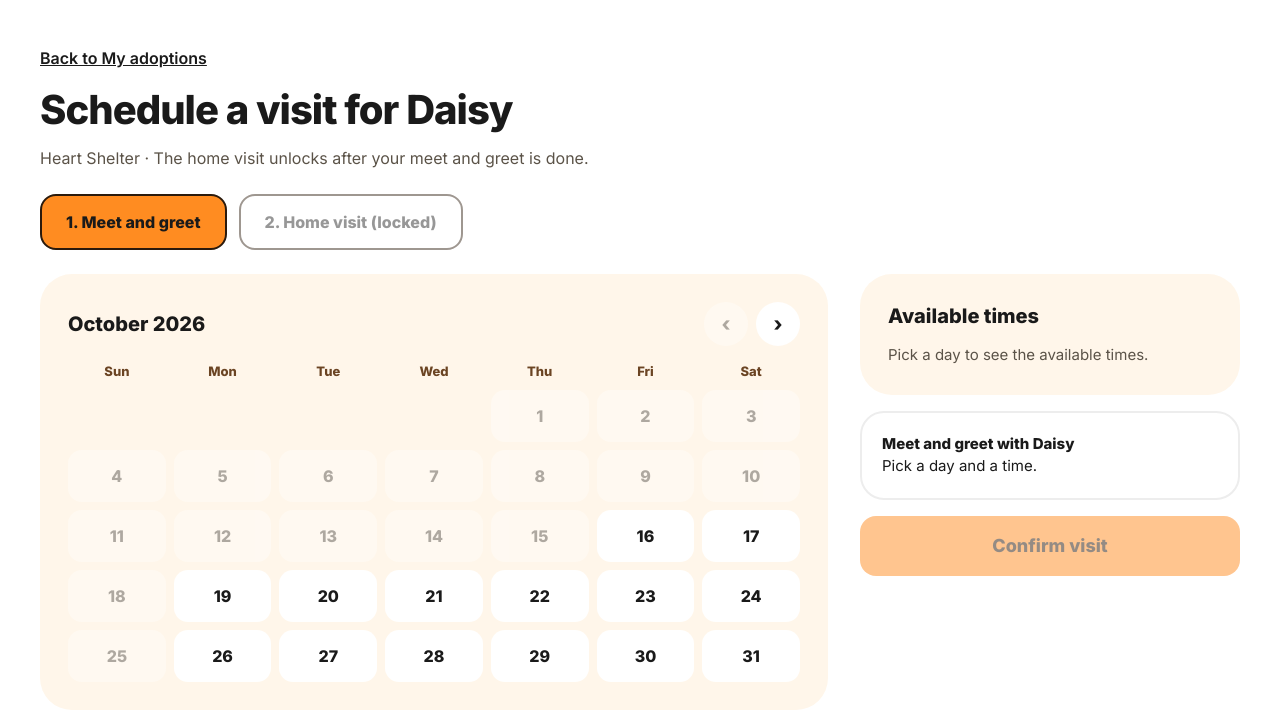
Test: ScheduleVisit › lists the times for a day and summarizes the choice
Expected: the text "Pick a day and a time." is shown, [882,456,1037,475]
Click the button named "Monday, October 19" at (223, 596), box [174,570,271,622]
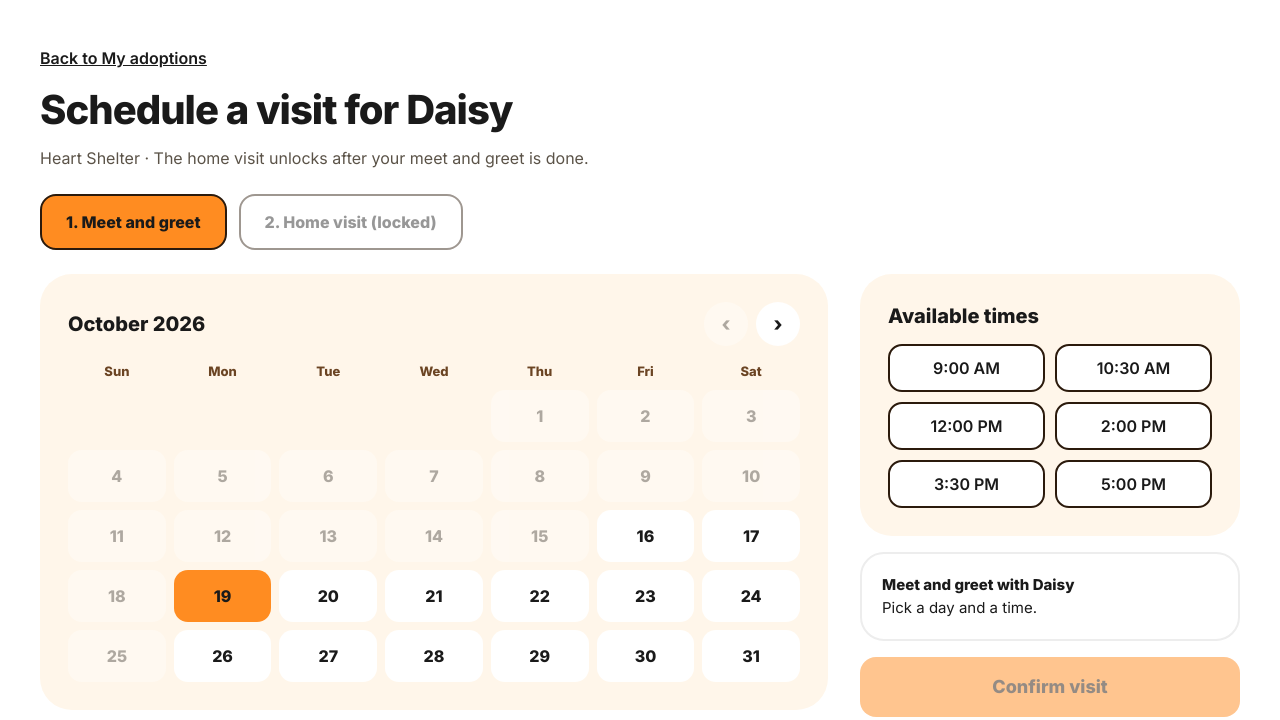
Click the button "10:30 AM" at (1134, 368), box [1055,344,1212,392]
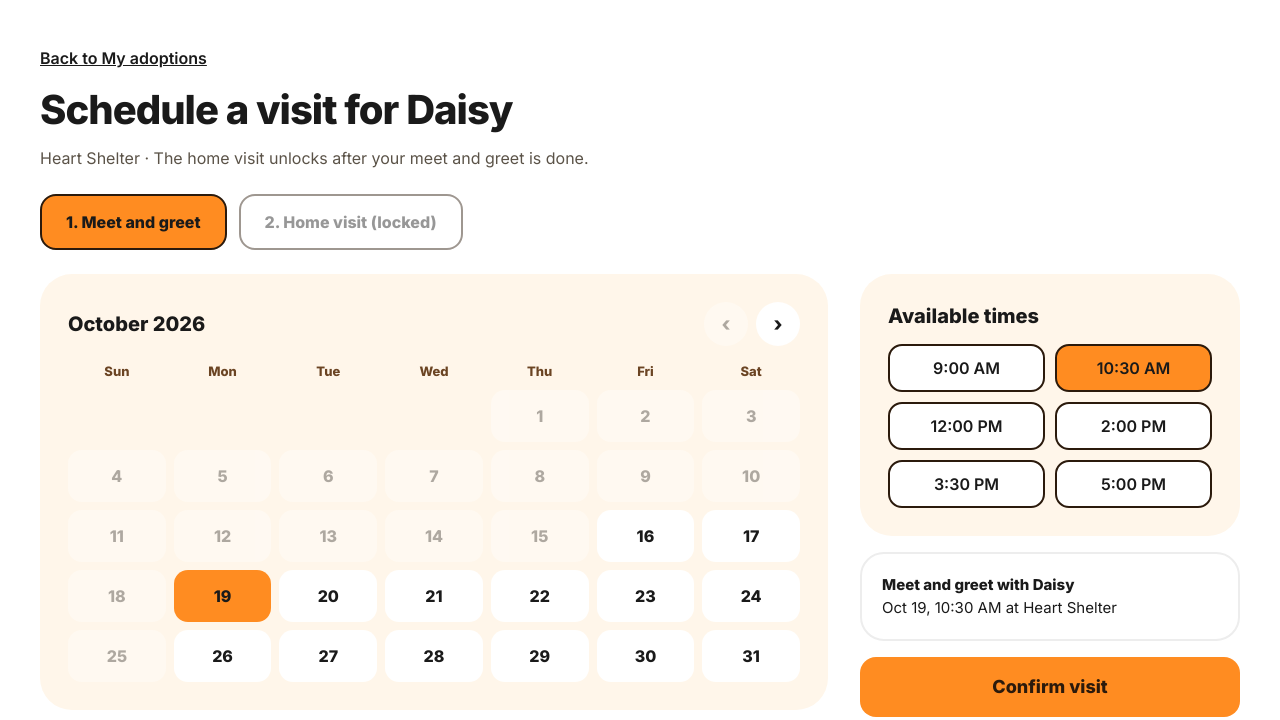
Now the text "Oct 19, 10:30 AM at Heart Shelter" is shown, box [882,598,1117,616]
